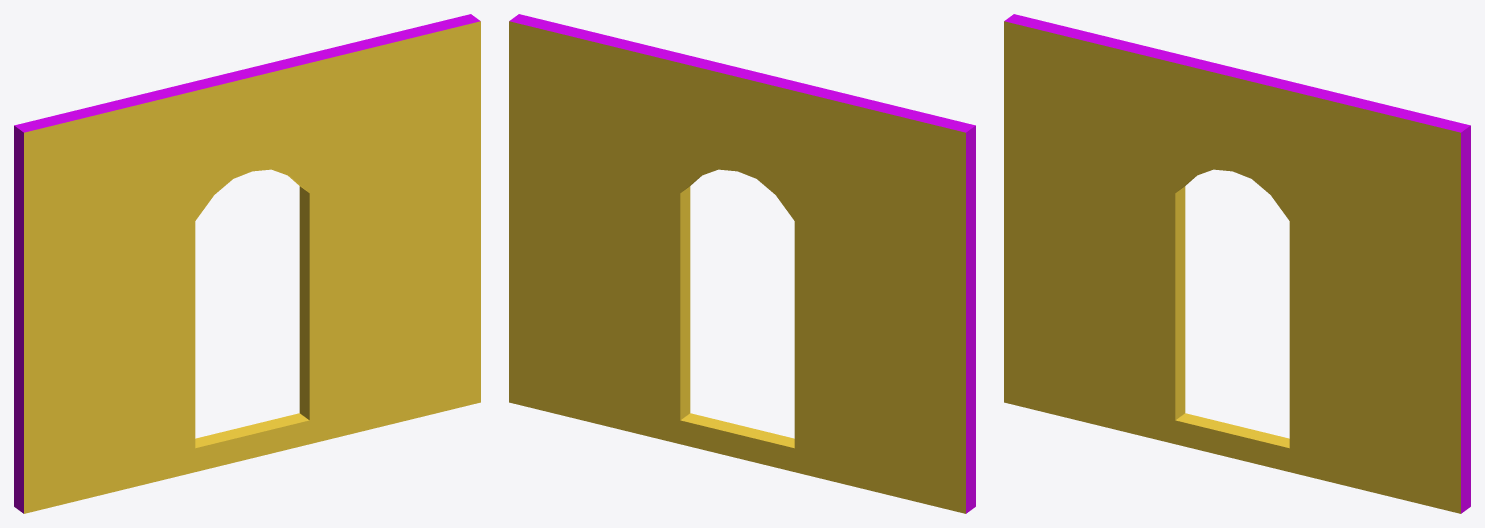
File: wall_door_LP.FBX
3 views of the same model, side by side, from view 1: azimuth 30°, elevation 25°; view 2: azimuth 150°, elevation 25°; view 3: azimuth 330°, elevation 25° (orthographic).
Visible parts, largest first — view 1: Box093; view 2: Box093; view 3: Box093.
Part boxes in pixels (x1,y1,x2,y2): Box093: [14, 14, 480, 513]; Box093: [509, 14, 975, 513]; Box093: [1004, 14, 1470, 513].
Bounding box in the file's own units: 400 × 319 × 15.
